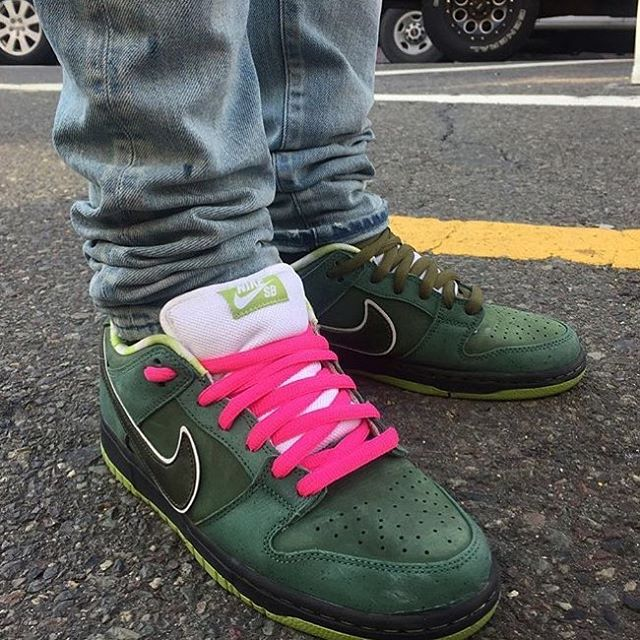Nike SB Dunk Green Lobster: (72, 252, 513, 640), (255, 215, 605, 424)
